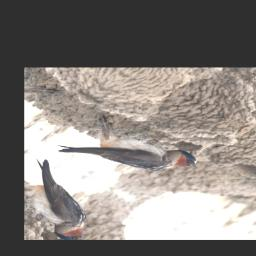Swallow: (48, 107, 208, 202)
